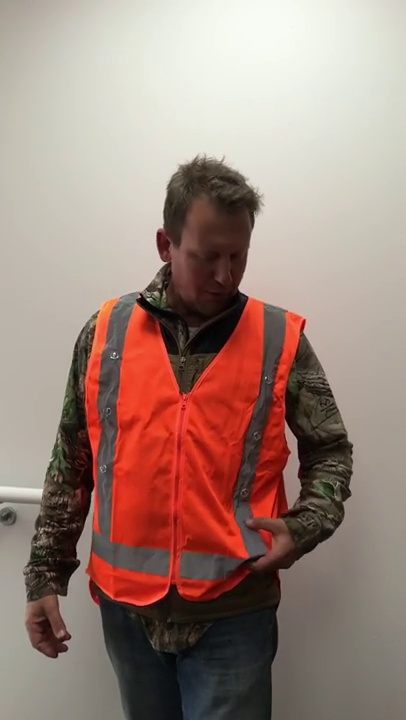NoHardhat: (87, 151, 311, 591)
